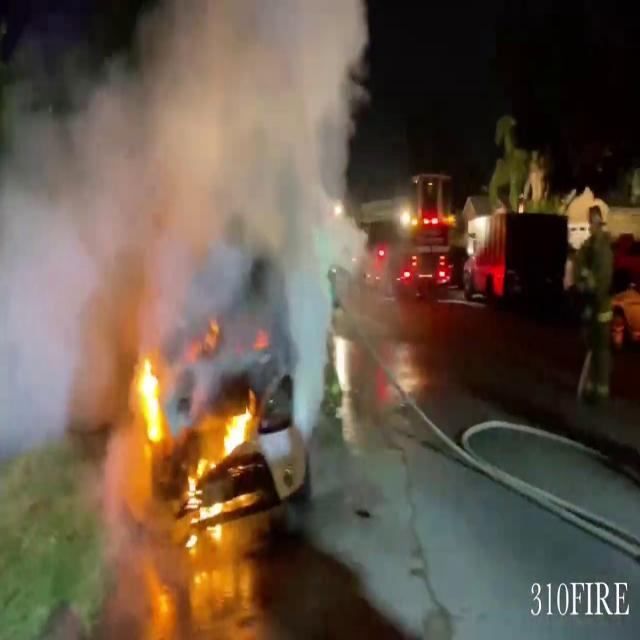Fire: (133, 353, 171, 450)
Smoke: (1, 0, 400, 366)
